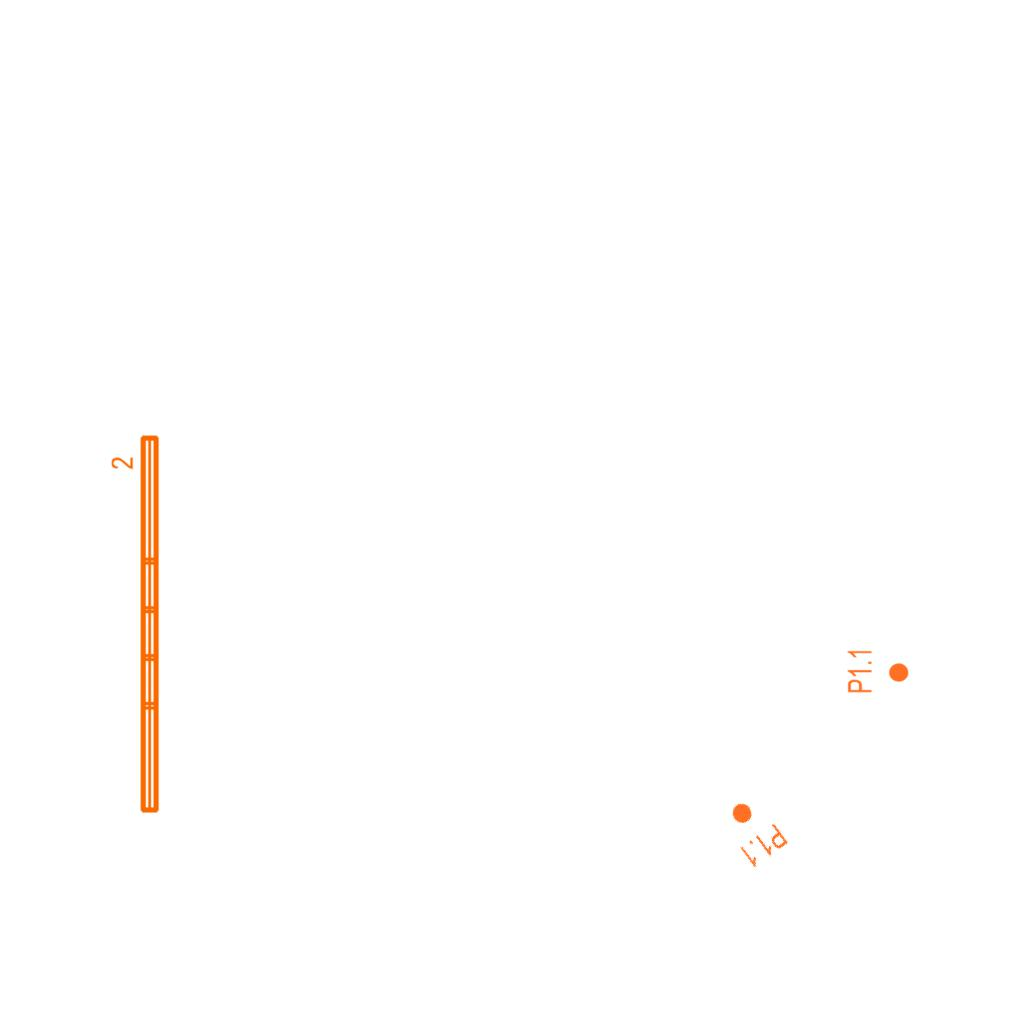Ambulanz_Pendelleuchte_LED: (109, 431, 165, 818)
Downlight_LED_Einbauleuchten_Flur: (715, 791, 791, 871), (846, 648, 910, 694)
